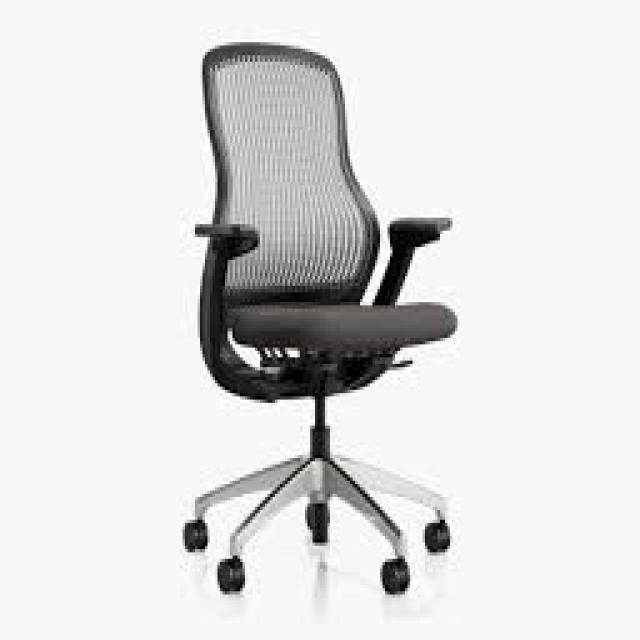chair: (124, 32, 479, 624)
